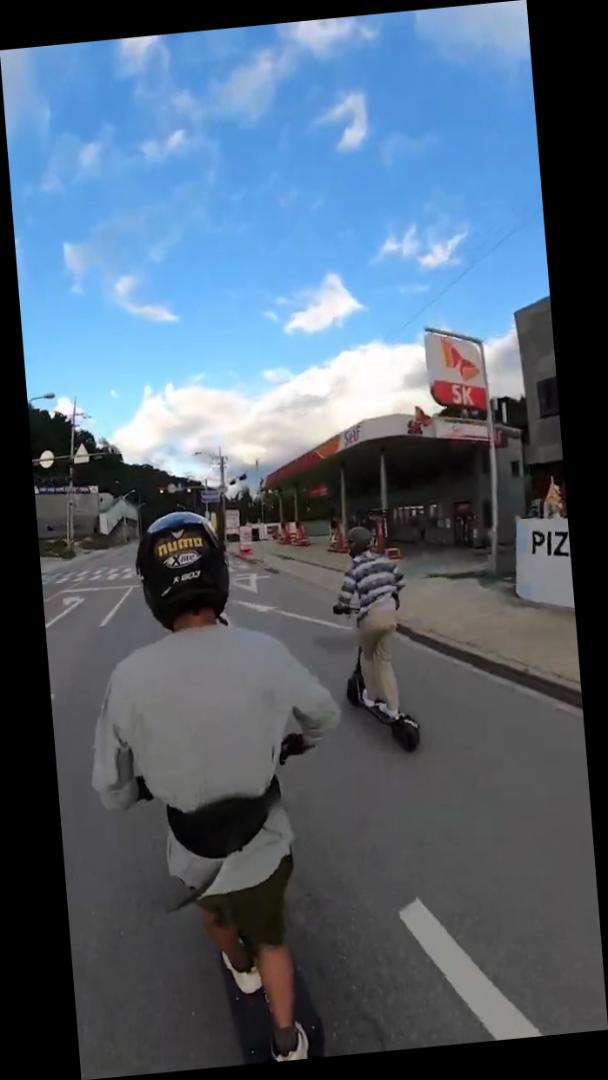helmet: (69, 495, 370, 1077), (325, 519, 427, 761)
